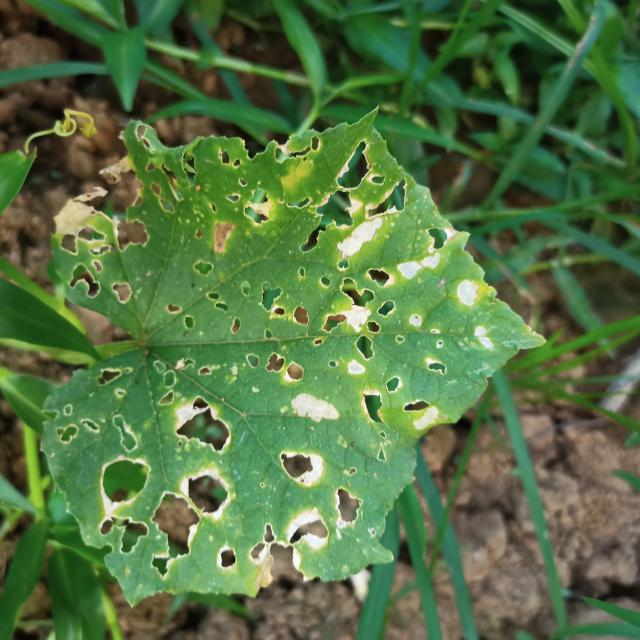disease_cucumber: (61, 157, 476, 588)
